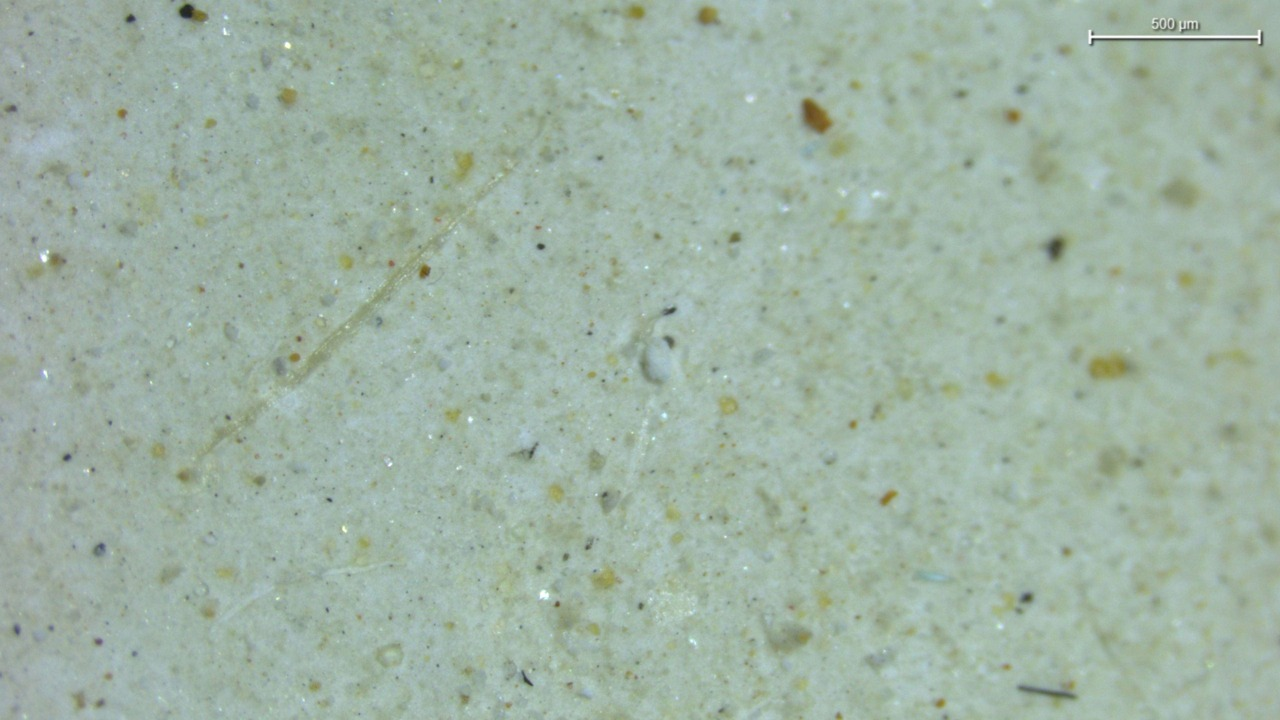microplastic_fragment: (642, 338, 673, 382)
